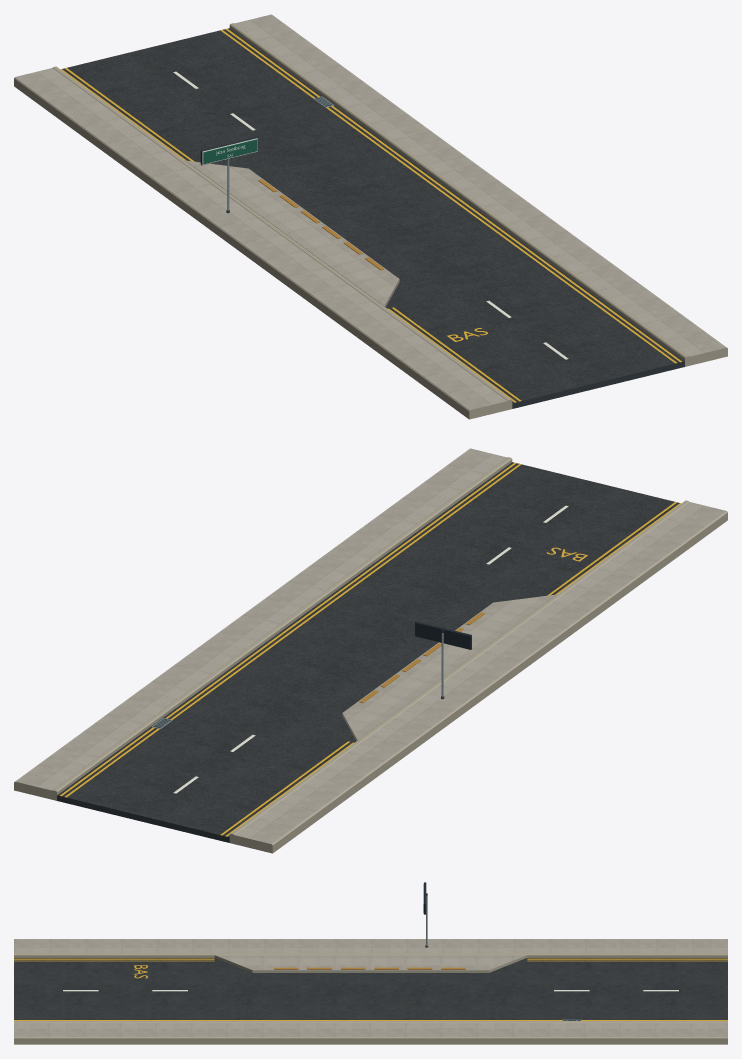
3 views of the same model, one above another, from view 1: azimuth 30°, elevation 25°; view 2: azimuth 150°, elevation 25°; view 3: azimuth 270°, elevation 25° (orthographic). The views are drawn at different scales.
Parts seen in each view (by area): view 1: Road Deck, Kerbs and Footways, Boarding Bulb, Road Markings, Local Street Signs; view 2: Road Deck, Kerbs and Footways, Boarding Bulb, Road Markings, Local Street Signs; view 3: Road Deck, Kerbs and Footways, Boarding Bulb, Road Markings, Tactile Boarding Edge.
Part boxes in pixels (left/top/right/bottom): Road Deck: left=62, top=28, right=684, bottom=408; Kerbs and Footways: left=14, top=14, right=727, bottom=419; Boarding Bulb: left=185, top=160, right=399, bottom=306; Road Markings: left=60, top=28, right=681, bottom=402; Local Street Signs: left=200, top=137, right=257, bottom=213; Road Deck: left=57, top=462, right=679, bottom=842; Kerbs and Footways: left=14, top=448, right=727, bottom=853; Boarding Bulb: left=342, top=594, right=556, bottom=740; Road Markings: left=60, top=462, right=681, bottom=836; Local Street Signs: left=415, top=621, right=471, bottom=699; Road Deck: left=14, top=958, right=727, bottom=1019; Kerbs and Footways: left=14, top=939, right=727, bottom=1044; Boarding Bulb: left=214, top=955, right=527, bottom=972; Road Markings: left=14, top=958, right=727, bottom=1020; Tactile Boarding Edge: left=274, top=967, right=465, bottom=969.
Bounding box in the file's own units: 10.74 × 3.04 × 32.
Materials: 12 (2 with a texture image).
